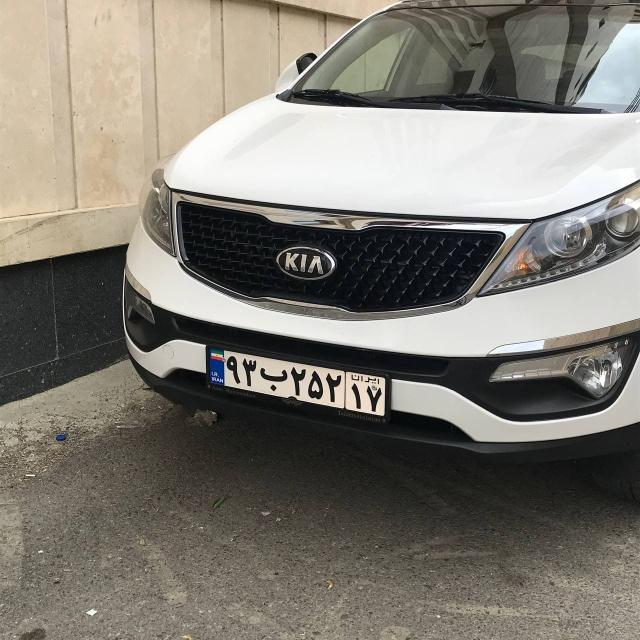Plates: (204, 348, 391, 416)
